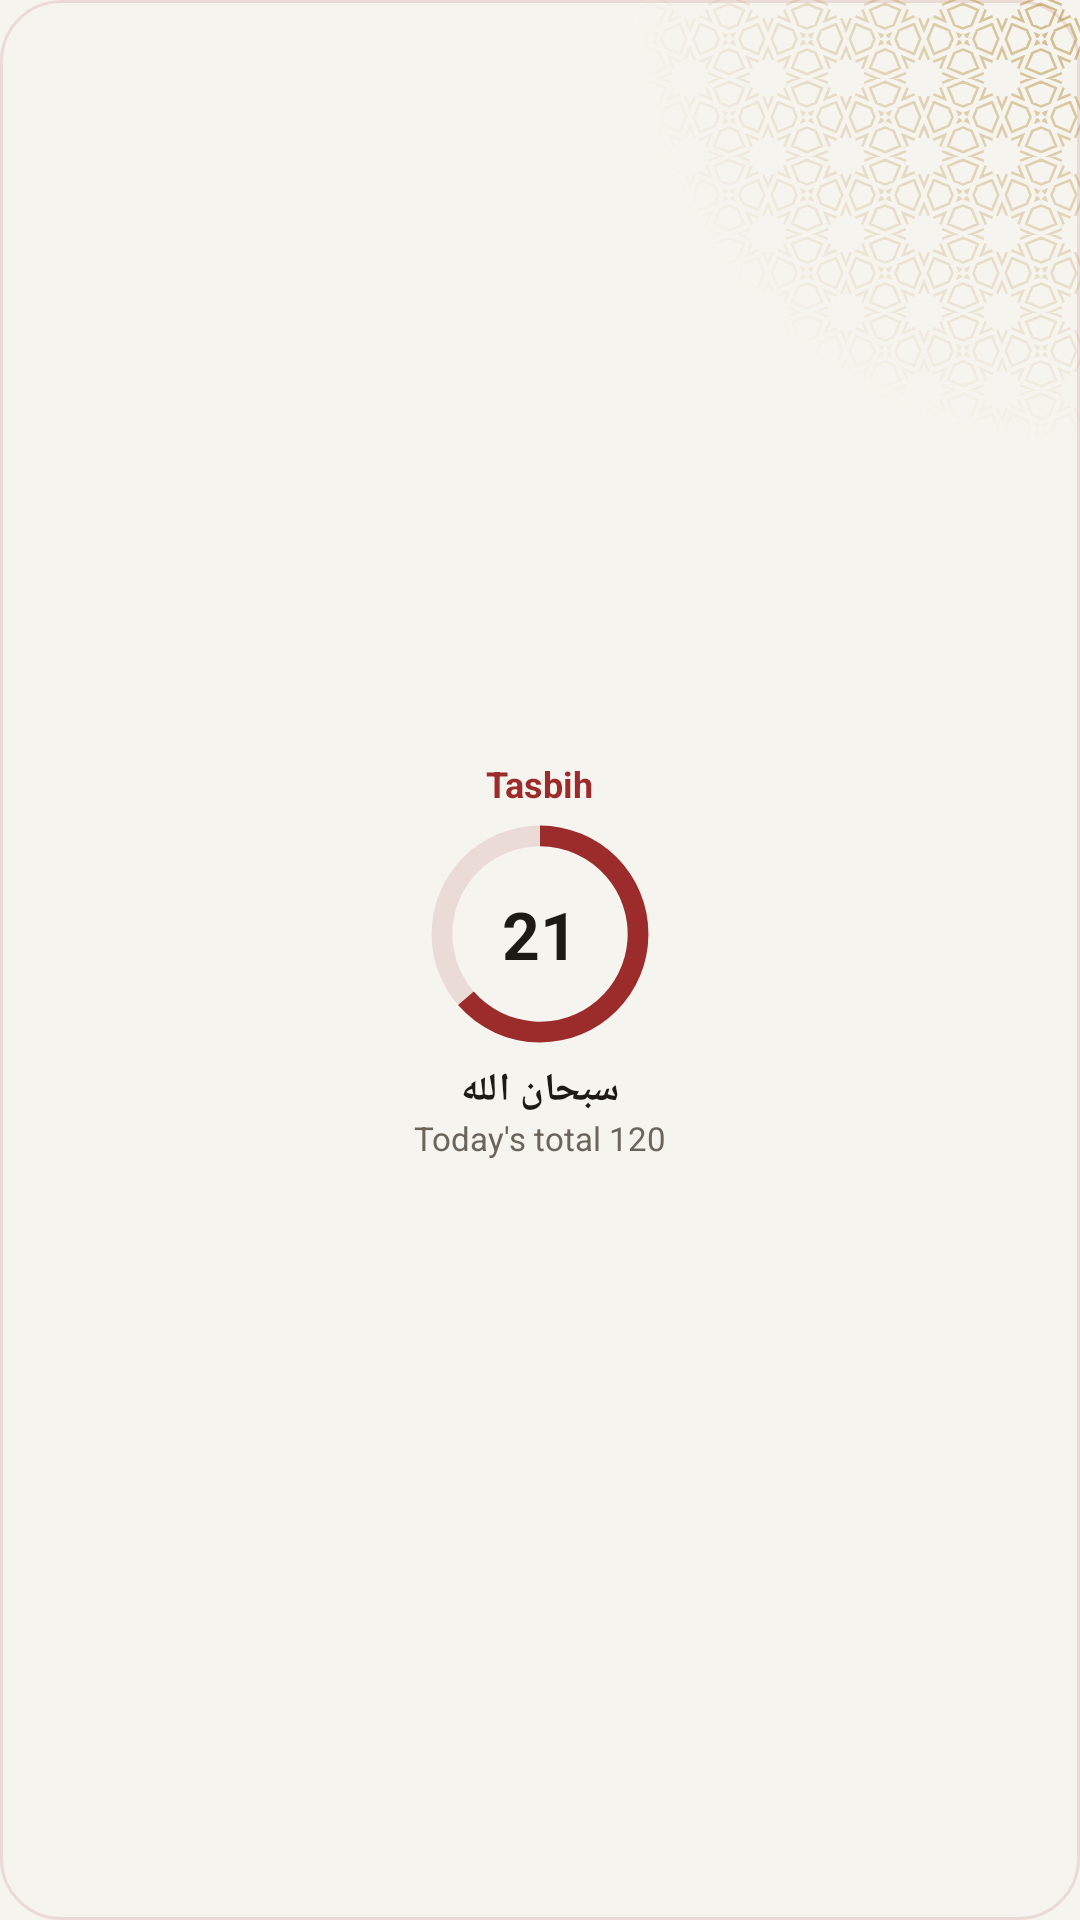

Named icons in this screenshot (1080*1920) and their centers, [x,y]:
widget orn band: [908,171]
